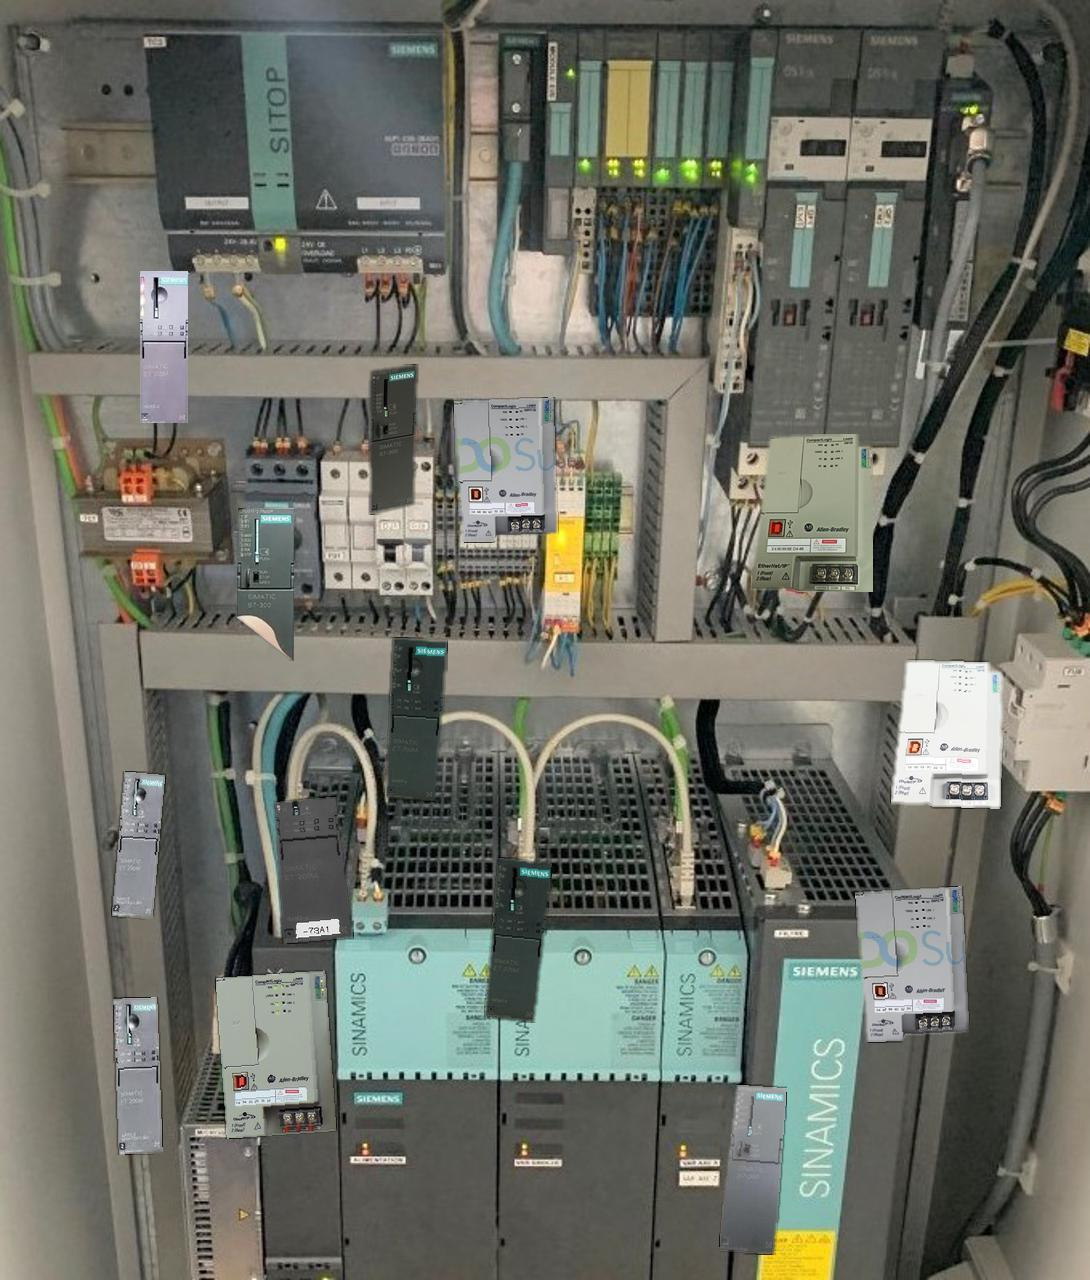AllenBradley: (216, 971, 335, 1138), (752, 434, 872, 591), (855, 886, 967, 1041), (891, 661, 1001, 806), (454, 397, 556, 542)
Siemens: (719, 1085, 786, 1254), (237, 508, 293, 659), (370, 365, 416, 514)
